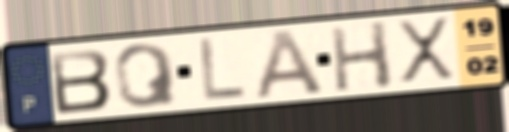A: (251, 26, 328, 102)
B: (47, 47, 114, 117)
H: (326, 18, 397, 94)
L: (198, 35, 249, 103)
Q: (111, 41, 181, 111)
X: (393, 14, 459, 85)
